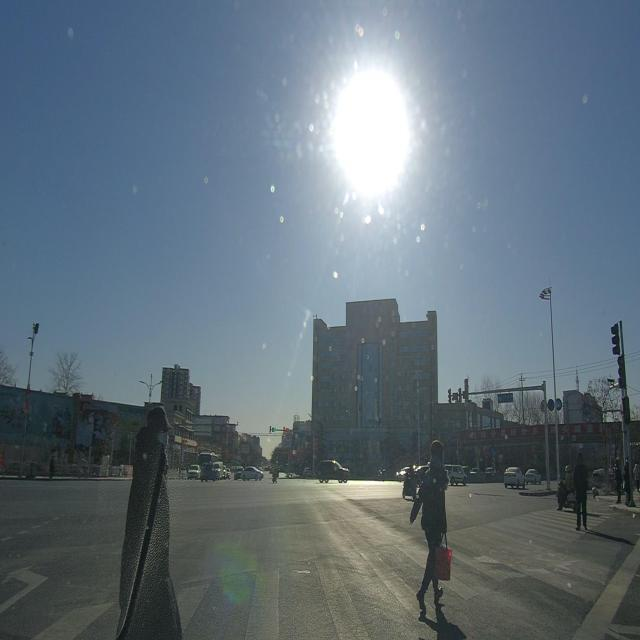Traffic Light -Green-: (270, 426, 271, 432)
Traffic Light -Off-: (610, 324, 622, 356), (621, 397, 632, 425), (617, 356, 626, 389), (458, 387, 462, 404), (448, 388, 452, 404)
Traffic Light -Red-: (283, 426, 285, 435)
